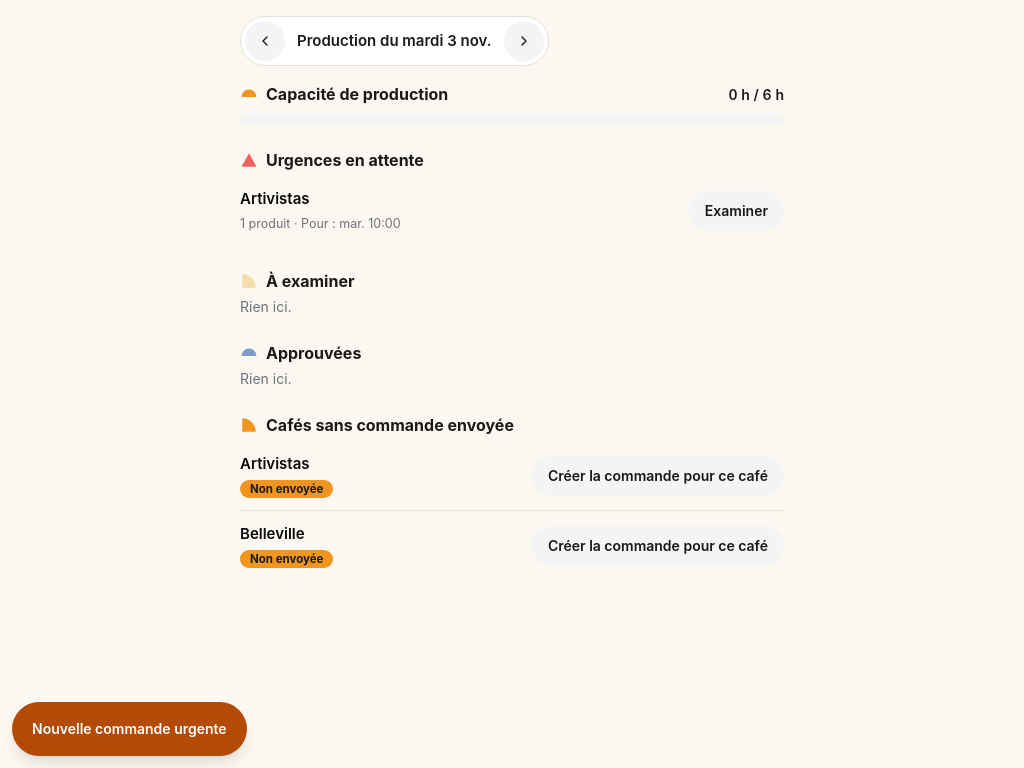
Test: StoresReview › shows a dash and no overrun warning when no capacity is known
Click the button "Examiner" at (736, 211), box [689,191,784,231]
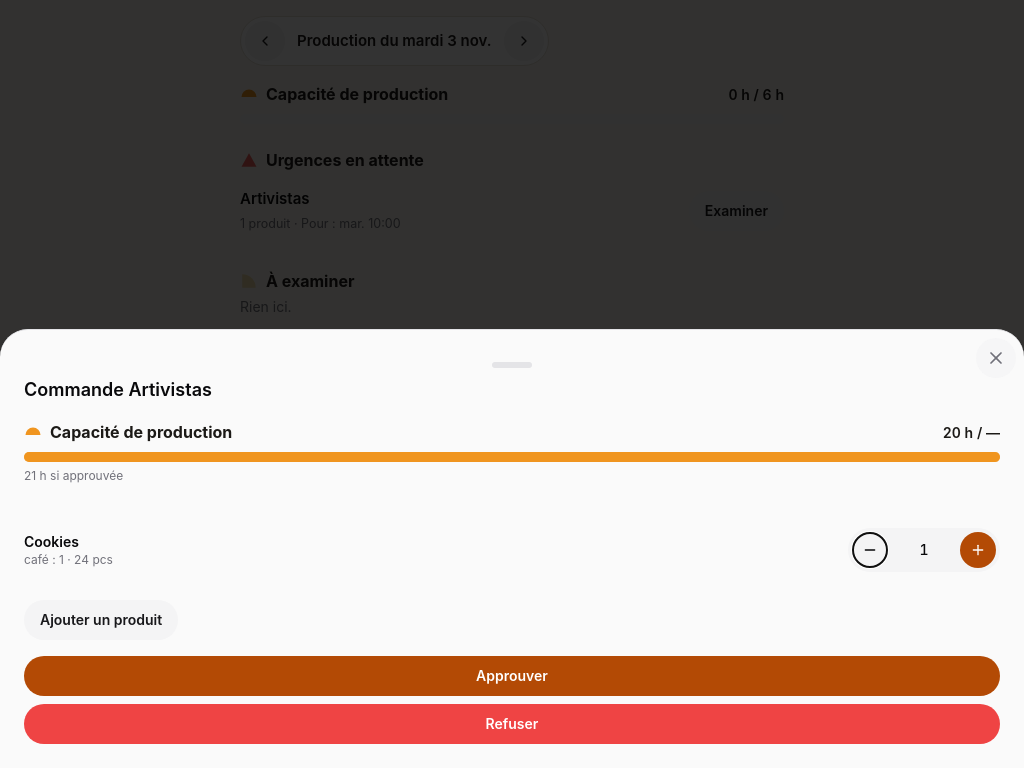
Expected: the text "20 h / —" is shown, [943,422,1000,442]
